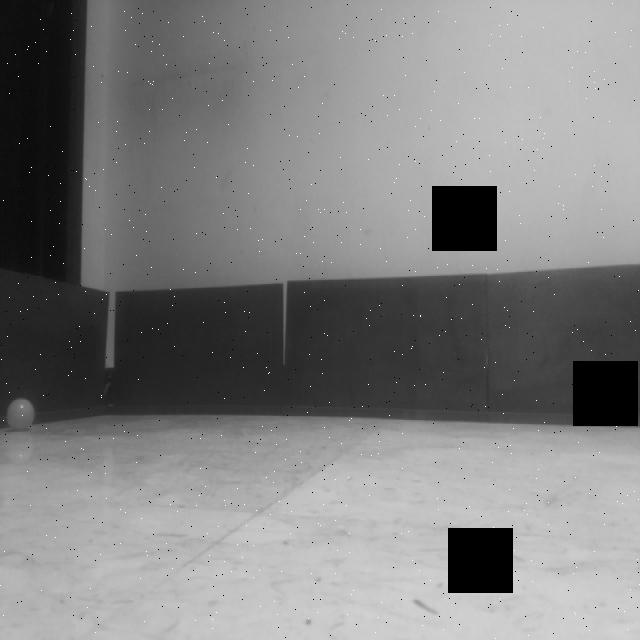ball: (5, 396, 41, 435)
